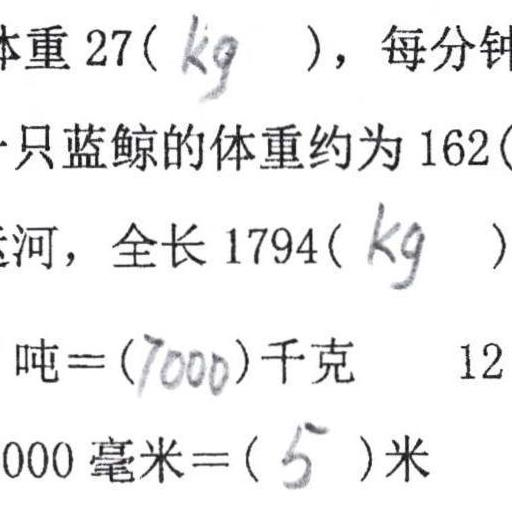ans: (133, 327, 229, 398), (362, 197, 427, 291), (175, 8, 239, 101), (274, 414, 328, 491)
